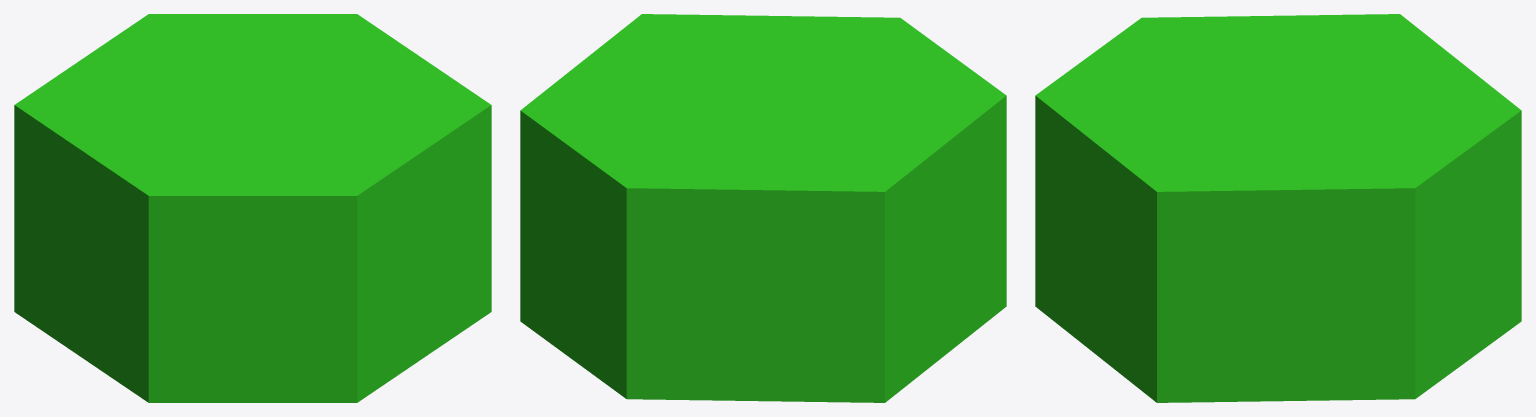
File: NormalContent.fbx
3 renders of one model, left to right at view 1: azimuth 30°, elevation 25°; view 2: azimuth 150°, elevation 25°; view 3: azimuth 270°, elevation 25°, orthographic.
Parts seen in each view (by area): view 1: Model; view 2: Model; view 3: Model.
Part boxes in pixels (bbox=[...]): Model: bbox=[14, 14, 491, 402]; Model: bbox=[520, 14, 1006, 402]; Model: bbox=[1035, 14, 1521, 402].
Size of what is drawn, in the model's own units: 0.5568 by 0.308 by 0.643.
